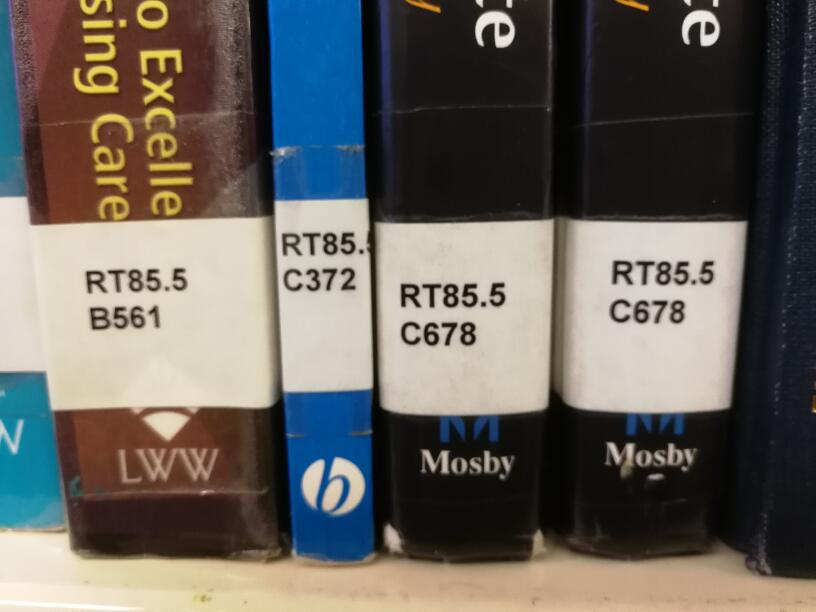booklabel: (397, 279, 509, 349), (82, 263, 191, 332), (609, 257, 716, 327), (279, 227, 373, 294)
